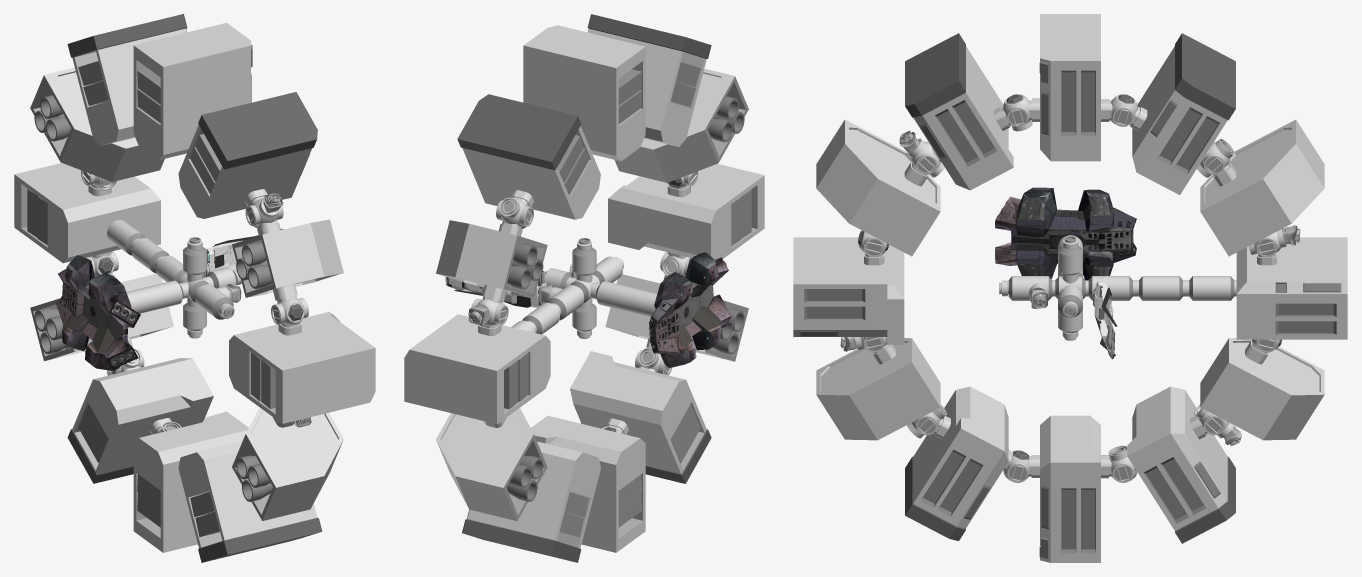
File: endurance + ranger + lander.glb
3 renders of one model, left to right at view 1: azimuth 30°, elevation 25°; view 2: azimuth 150°, elevation 25°; view 3: azimuth 270°, elevation 25°, orthographic. The views are drawn at different scales.
Visible parts, largest first — view 1: EnduranceShip, EnduranceShip.002, Object_4, EnduranceShip.001, Connector.008, Connector.007, Plane_1, Connector.001; view 2: EnduranceShip, EnduranceShip.002, Object_4, EnduranceShip.001, Connector.0011, Connector, Connector.005, Plane_1, Connector.006; view 3: EnduranceShip, Object_4, EnduranceShip.002, EnduranceShip.001, Object_3, Connector.008, Connector, Connector.002, Plane_1, Connector.0011, Connector.009, Connector.003 (+2 smaller).
Part boxes in pixels (x1,y1,x2,y2): EnduranceShip: (14,14,375,562); EnduranceShip.002: (34,95,272,501); Object_4: (56,255,140,371); EnduranceShip.001: (88,184,301,434); Connector.008: (245,193,283,228); Connector.007: (271,298,308,325); Plane_1: (206,229,283,270); Connector.001: (86,251,118,276); EnduranceShip: (404,14,764,562); EnduranceShip.002: (506,96,744,501); Object_4: (649,252,731,367); EnduranceShip.001: (478,184,690,434); Connector.0011: (496,197,533,229); Connector: (468,298,508,325); Connector.005: (635,347,672,375); Plane_1: (445,271,545,307); Connector.006: (660,252,690,276); EnduranceShip: (793,14,1347,562); Object_4: (995,187,1136,280); EnduranceShip.002: (1001,235,1236,338); EnduranceShip.001: (864,98,1276,478); Object_3: (1011,192,1133,266); Connector.008: (899,130,944,177); Connector: (1248,225,1299,257); Connector.002: (1194,404,1241,446); Plane_1: (1094,281,1115,359); Connector.0011: (1197,138,1234,177); Connector.009: (1003,94,1032,131); Connector.003: (1108,445,1137,482).
Size of the model in its own units: 27.92 by 54.6 by 54.6.
15 materials, 3 textured.
